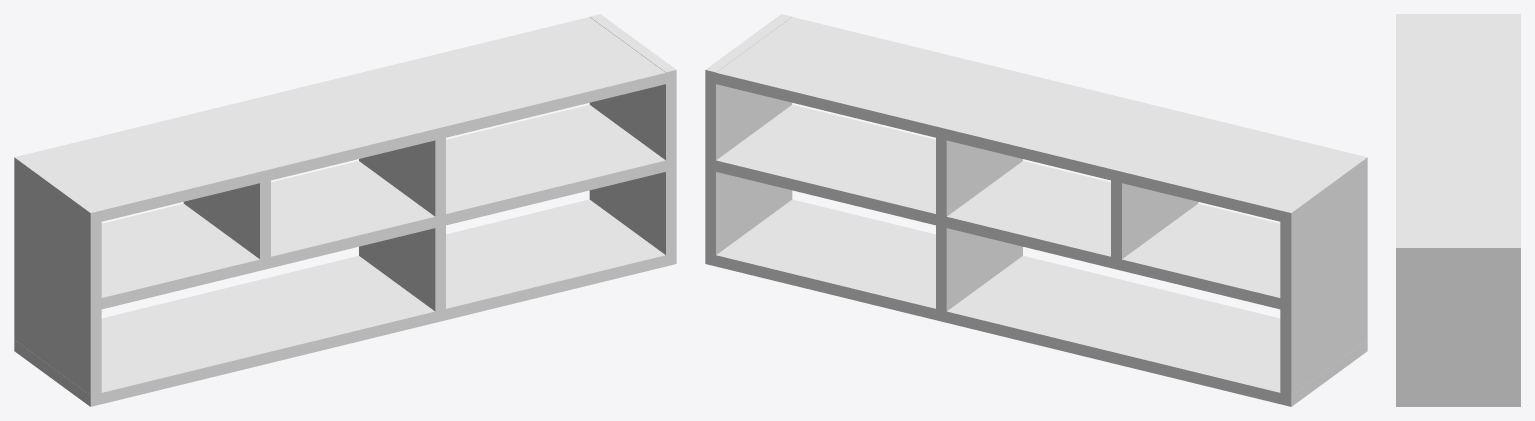
The model's file is regal.glb.
The picture shows the model from 3 angles, left to right: view 1: azimuth 30°, elevation 25°; view 2: azimuth 150°, elevation 25°; view 3: azimuth 270°, elevation 25°; orthographic projection. The views are drawn at different scales.
Visible parts, largest first — view 1: mesh_id34, mesh_id28, mesh_id53, mesh_id41, mesh_id35, mesh_id47, mesh_id59; view 2: mesh_id34, mesh_id28, mesh_id53, mesh_id41, mesh_id35, mesh_id47, mesh_id59; view 3: mesh_id34, mesh_id35.
Part boxes in pixels (x1,y1,x2,y2): mesh_id34: (14, 17, 674, 224); mesh_id28: (14, 199, 674, 406); mesh_id53: (91, 104, 673, 311); mesh_id41: (14, 167, 101, 398); mesh_id35: (589, 14, 676, 266); mesh_id47: (359, 135, 445, 316); mesh_id59: (183, 176, 270, 261); mesh_id34: (716, 17, 1367, 224); mesh_id28: (707, 199, 1367, 406); mesh_id53: (716, 104, 1290, 311); mesh_id41: (1280, 169, 1367, 395); mesh_id35: (705, 14, 792, 265); mesh_id47: (936, 135, 1022, 311); mesh_id59: (1111, 177, 1198, 260); mesh_id34: (1396, 14, 1520, 243); mesh_id35: (1396, 243, 1520, 406).
Bounding box in the file's own units: 0.6189 × 0.1958 × 0.1395.
2 materials, 2 textured.
